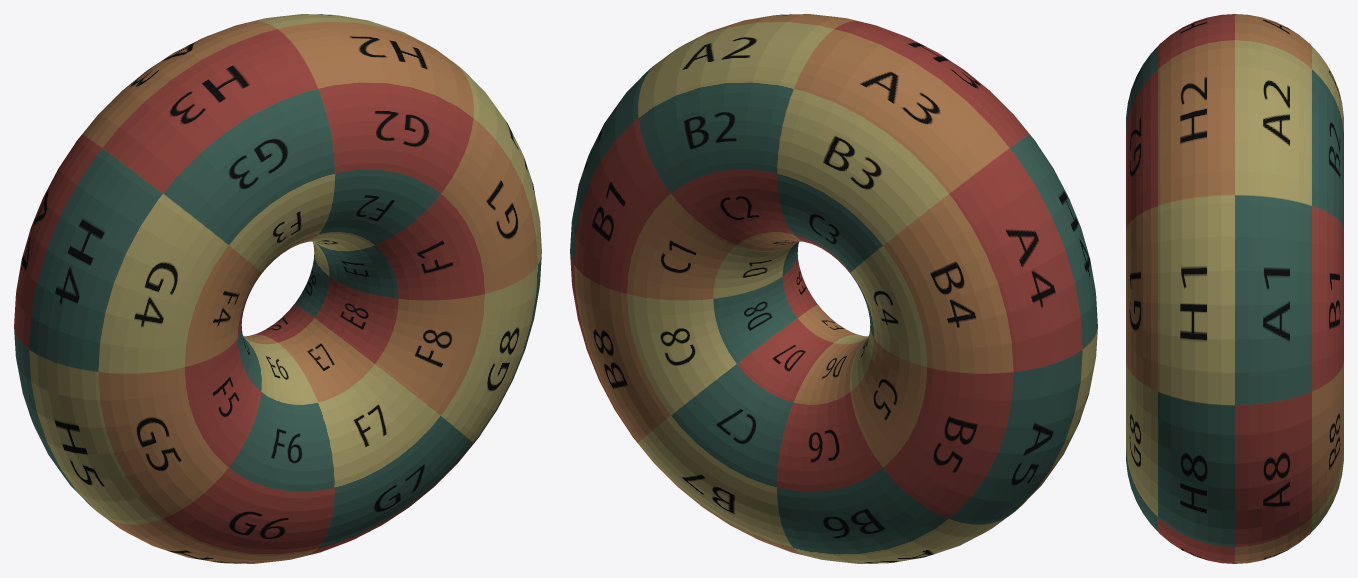
Rendered from texture_torus_R6_r27.glb.
3 renders of one model, left to right at view 1: azimuth 30°, elevation 25°; view 2: azimuth 150°, elevation 25°; view 3: azimuth 270°, elevation 25°, orthographic. The views are drawn at different scales.
Visible parts, largest first — view 1: world; view 2: world; view 3: world.
Boxes of the visible parts, x1=… form: world: x1=14, y1=14, x2=541, y2=563; world: x1=570, y1=14, x2=1097, y2=563; world: x1=1126, y1=14, x2=1343, y2=563.
Size of the model in its own units: 23.2 by 23.15 by 9.18.
1 material, 1 textured.
